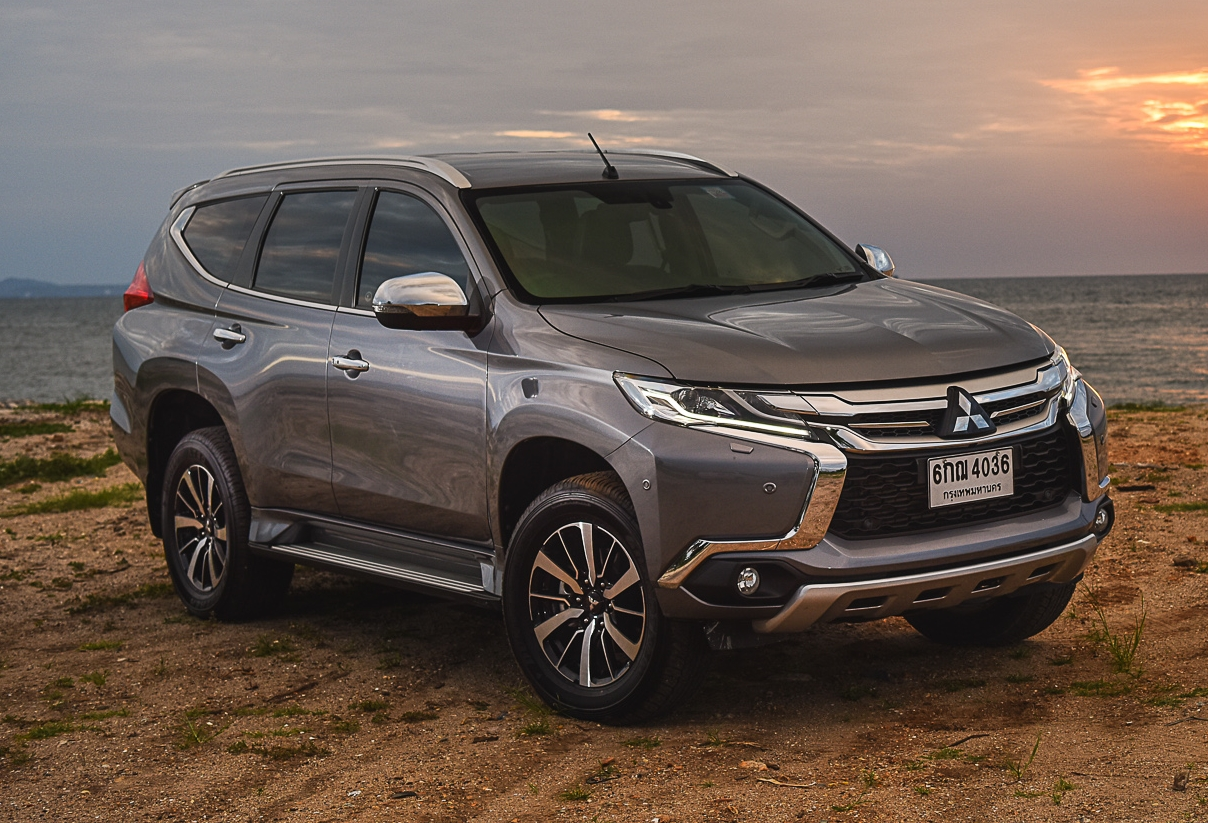pickup: (107, 141, 1120, 725)
